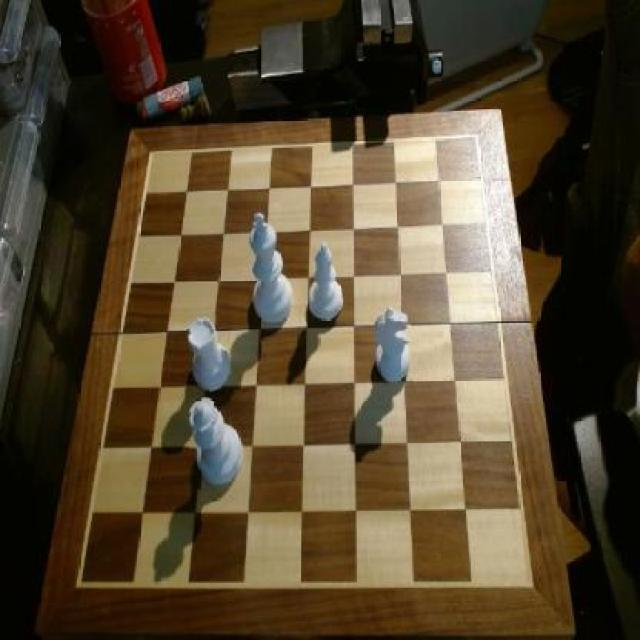black-rook: (309, 240, 347, 323)
white-bishop: (246, 208, 294, 324)
white-king: (374, 308, 413, 389)
white-pawn: (188, 392, 244, 490)
white-queen: (186, 316, 233, 396)
